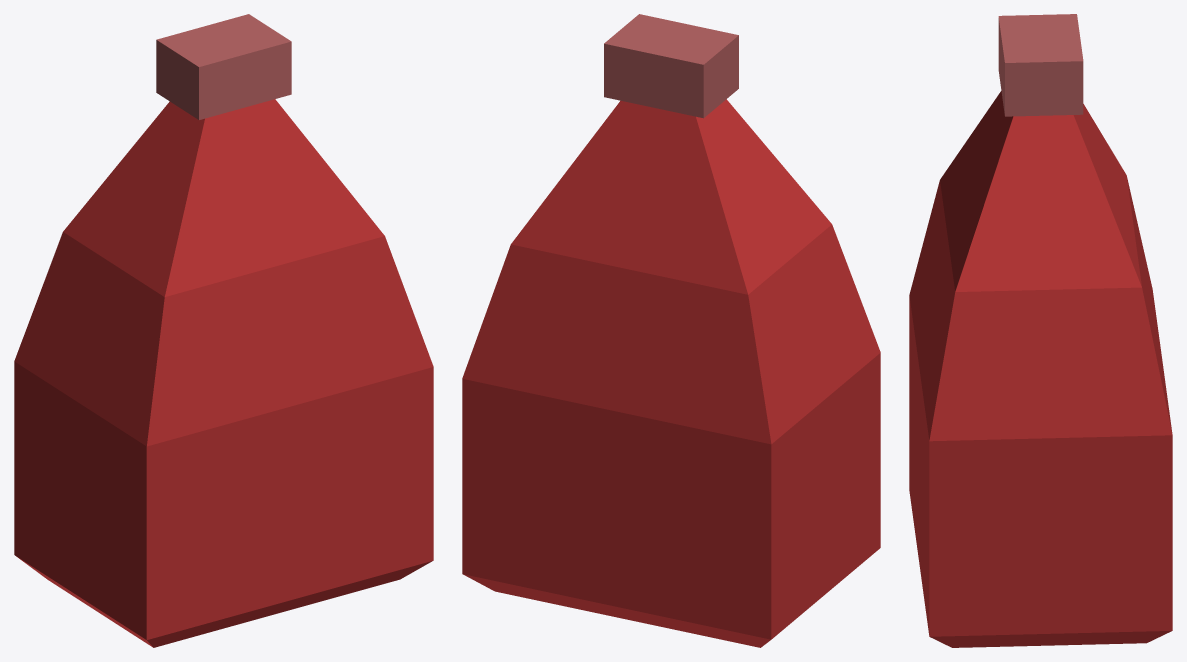
Rendered from Kitchen_Bottle3.fbx.
3 views of the same model, side by side, from view 1: azimuth 30°, elevation 25°; view 2: azimuth 150°, elevation 25°; view 3: azimuth 270°, elevation 25° (orthographic).
Visible parts, largest first — view 1: Kitchen_Bottle3; view 2: Kitchen_Bottle3; view 3: Kitchen_Bottle3.
Part boxes in pixels (<box>): Kitchen_Bottle3: <box>14,14,433,647</box>; Kitchen_Bottle3: <box>462,14,880,647</box>; Kitchen_Bottle3: <box>909,14,1172,647</box>.
Bounding box in the file's own units: 15.38 × 25.65 × 11.24.
